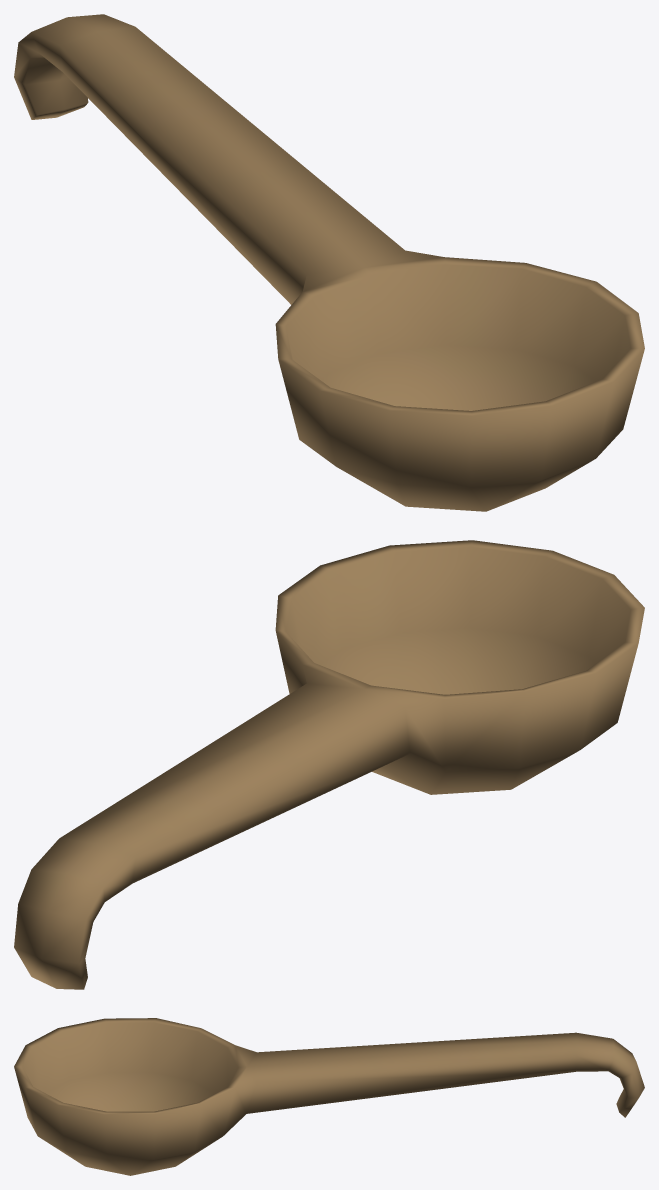
Rendered from ladle_02.glb.
The picture shows the model from 3 angles, top to bottom: view 1: azimuth 30°, elevation 25°; view 2: azimuth 150°, elevation 25°; view 3: azimuth 270°, elevation 25°; orthographic projection. The views are drawn at different scales.
Parts seen in each view (by area): view 1: ladle.02; view 2: ladle.02; view 3: ladle.02.
Boxes of the visible parts, x1,y1,x2,y2 form: ladle.02: (14, 14, 644, 511); ladle.02: (14, 540, 644, 989); ladle.02: (14, 1018, 644, 1175).
Size of the model in its own units: 0.3042 by 0.1708 by 0.8448.
Materials: 1 (1 with a texture image).
